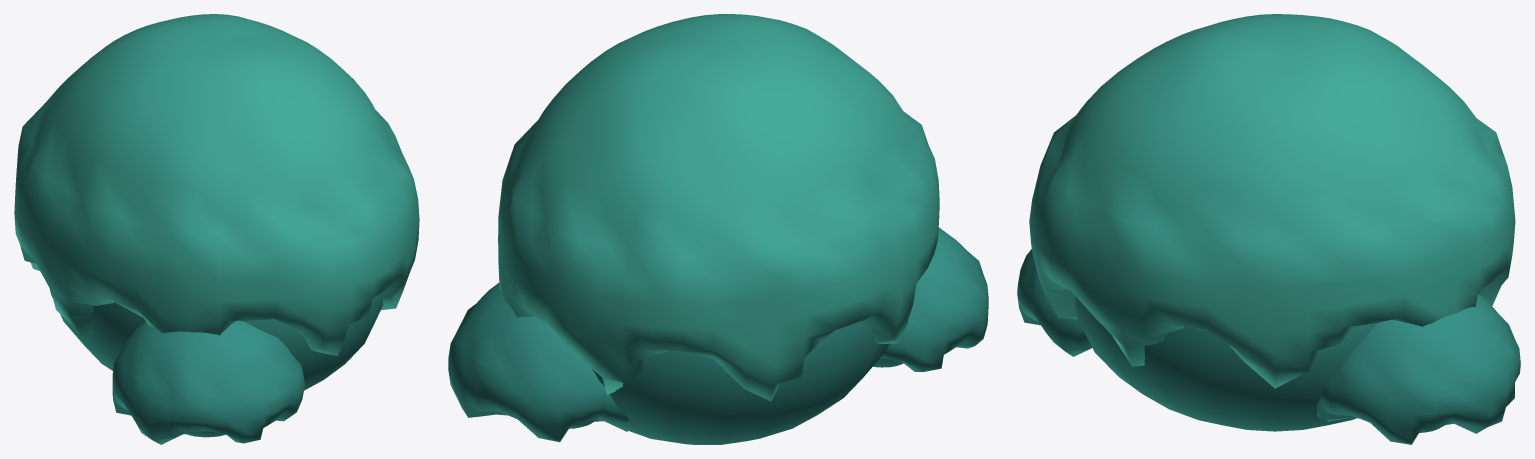
File: GROVE_BUSH.glb
The picture shows the model from 3 angles, left to right: view 1: azimuth 30°, elevation 25°; view 2: azimuth 150°, elevation 25°; view 3: azimuth 270°, elevation 25°; orthographic projection. The views are drawn at different scales.
Visible parts, largest first — view 1: bush_main, bush_low, bush_core; view 2: bush_main, bush_low, bush_core; view 3: bush_main, bush_low, bush_core.
Boxes of the visible parts, bbox=[...] form: bush_main: bbox=[14, 14, 419, 356]; bush_low: bbox=[112, 320, 304, 444]; bush_core: bbox=[50, 289, 383, 390]; bush_main: bbox=[498, 14, 939, 401]; bush_low: bbox=[448, 227, 988, 442]; bush_core: bbox=[591, 321, 888, 444]; bush_main: bbox=[1029, 14, 1515, 388]; bush_low: bbox=[1017, 249, 1520, 444]; bush_core: bbox=[1074, 290, 1480, 431].
Bounding box in the file's own units: 7.99 × 7.87 × 9.58.
